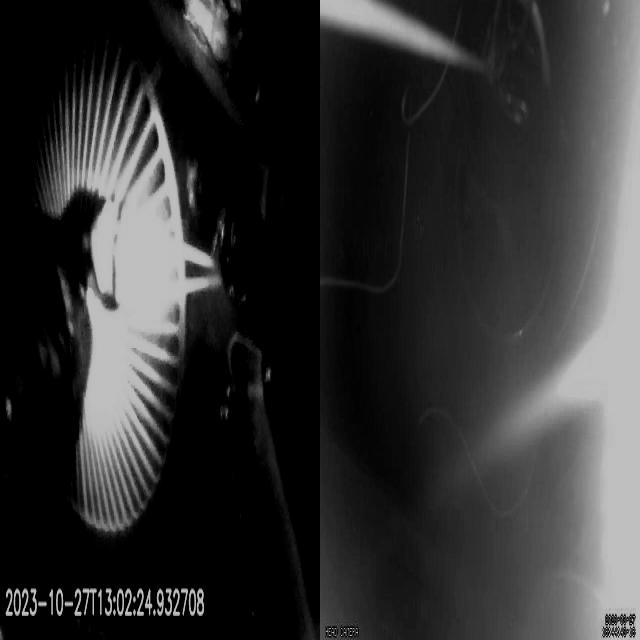head: (102, 200, 174, 328)
